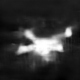plane: (11, 24, 79, 66)
